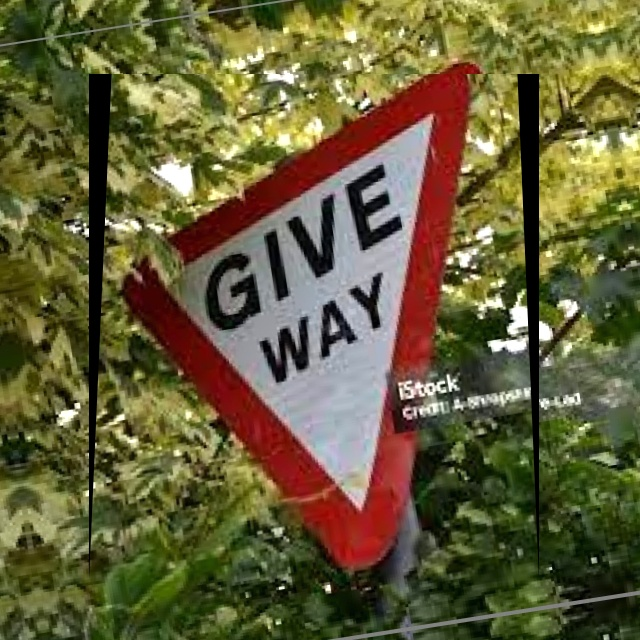Give_Way: (89, 74, 539, 581)
